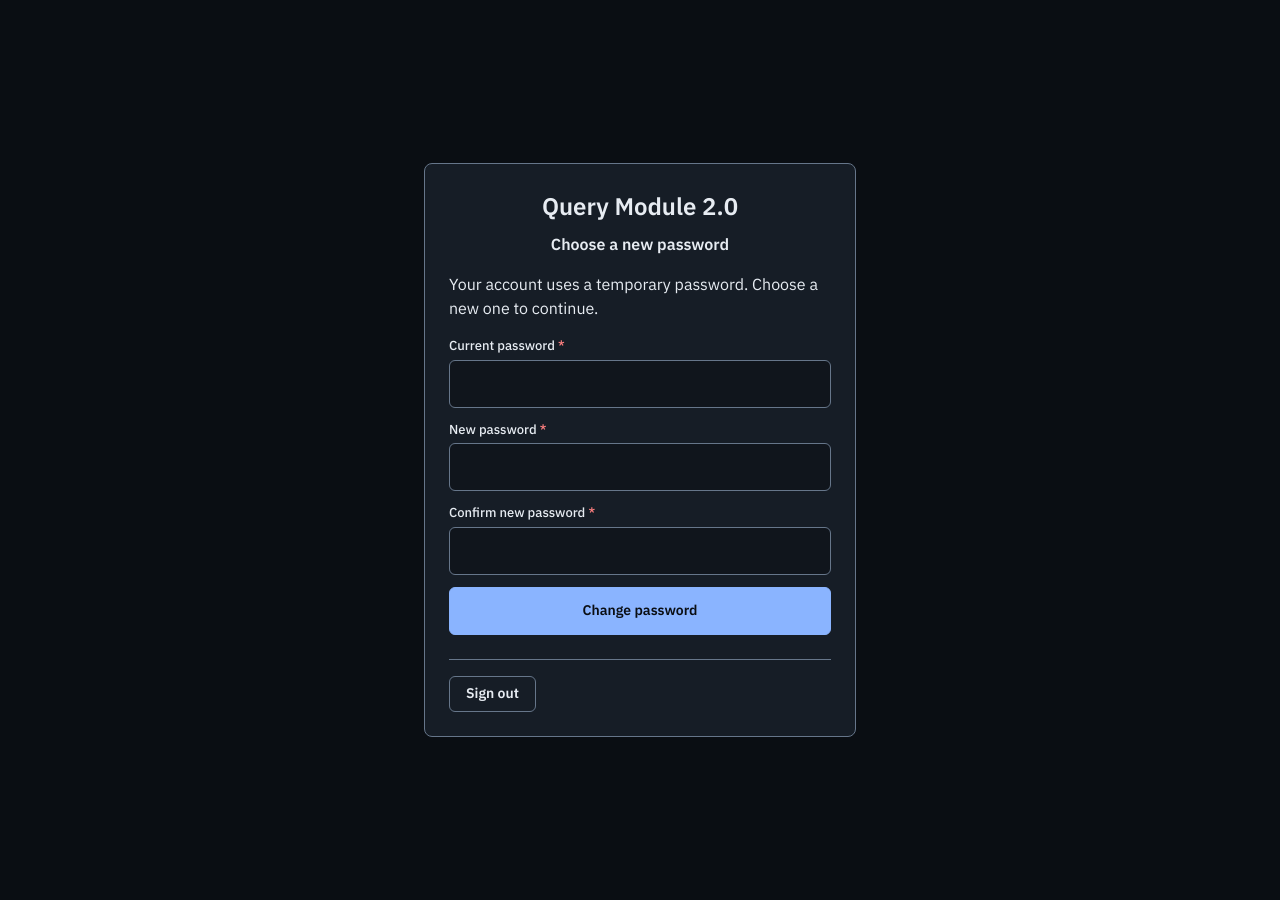
Test case: forced password change (D-A26, SEC-005, UX-004) › Sign out works from the screen
The width and height of the screenshot is (1280, 900).
Expected: the heading "Choose a new password" is shown, left=551, top=234, right=729, bottom=254
What coordinates should you click on to do the following:
click the button "Sign out"
I would click on:
 (492, 694)
Its box is left=449, top=676, right=536, bottom=712.
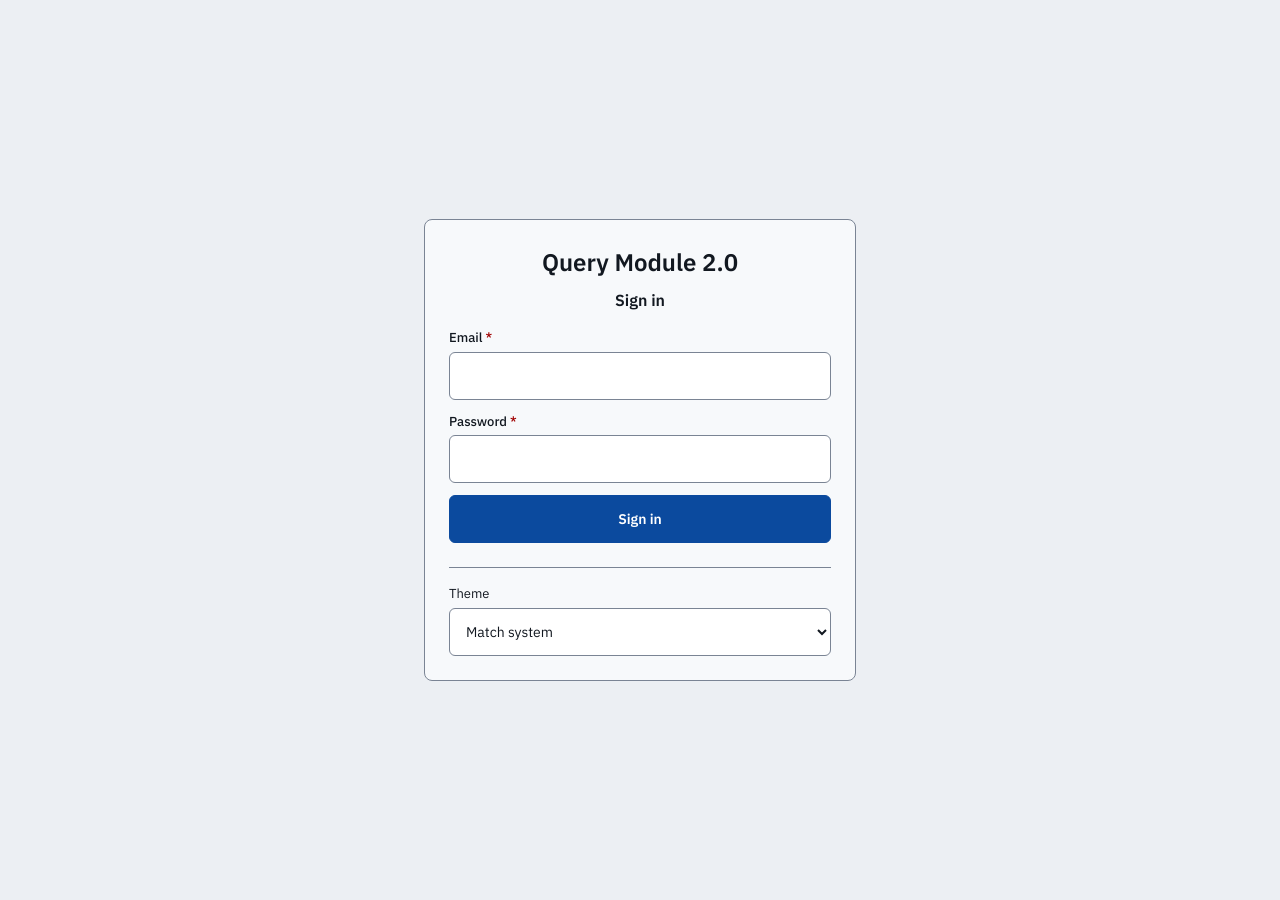
Expected: the heading "Sign in" is shown, left=615, top=290, right=665, bottom=310
